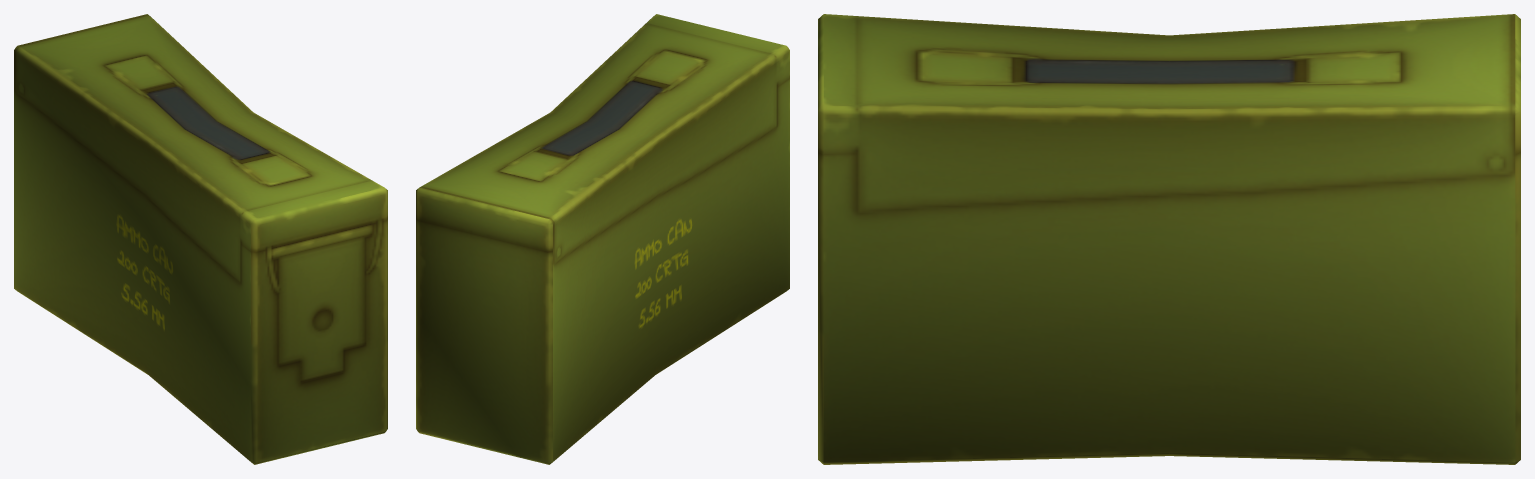
The model's file is AmmoCan01_1.FBX.
3 views of the same model, side by side, from view 1: azimuth 30°, elevation 25°; view 2: azimuth 150°, elevation 25°; view 3: azimuth 270°, elevation 25° (orthographic). The views are drawn at different scales.
Visible parts, largest first — view 1: AmmoCan01_1; view 2: AmmoCan01_1; view 3: AmmoCan01_1.
Part boxes in pixels (<box>): AmmoCan01_1: <box>14,14,387,464</box>; AmmoCan01_1: <box>416,14,789,464</box>; AmmoCan01_1: <box>818,14,1520,464</box>.
Size of what is drawn, in the model's own units: 0.1212 by 0.208 by 0.3697.
